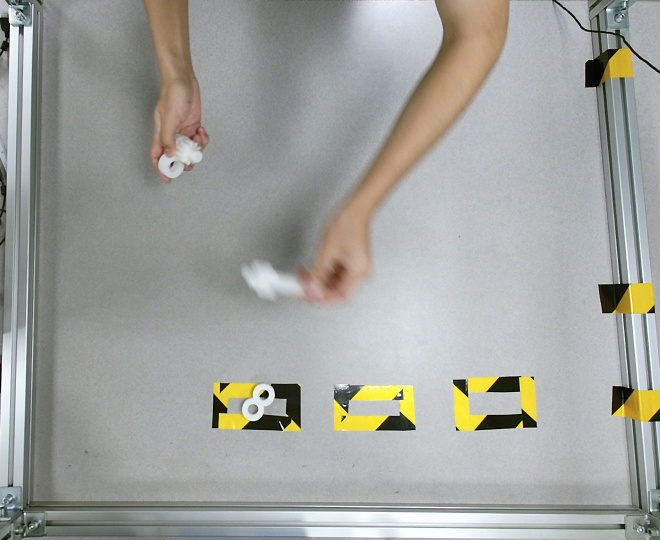stage_2: (157, 135, 201, 178)
